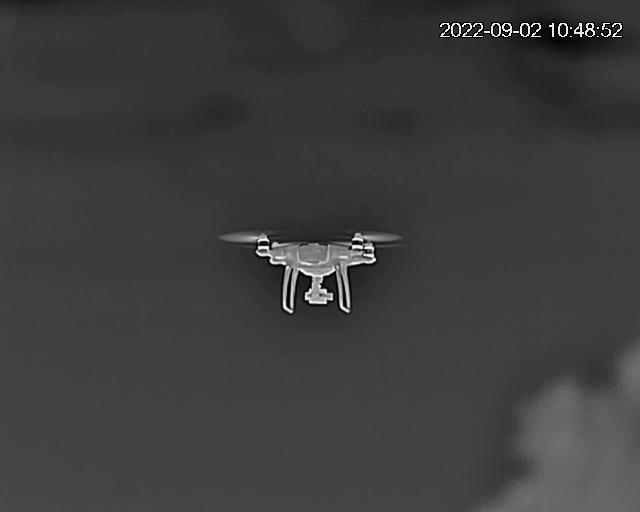DJI-Phantom: (220, 222, 407, 314)
